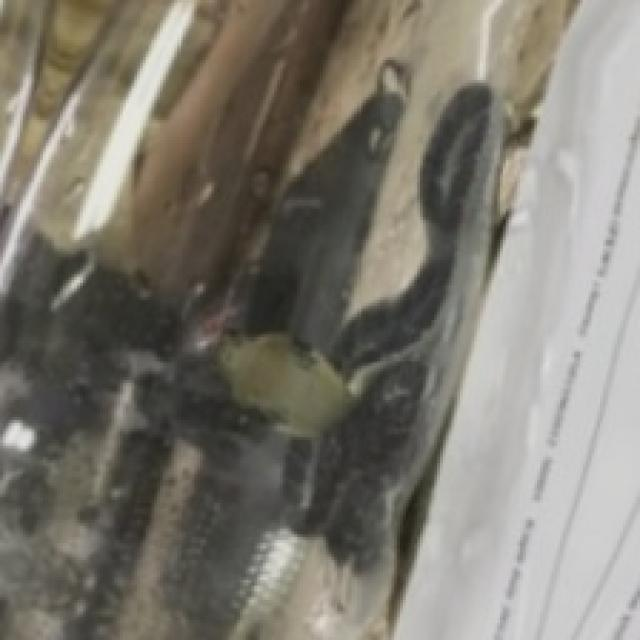king cobra: (0, 0, 569, 637)
